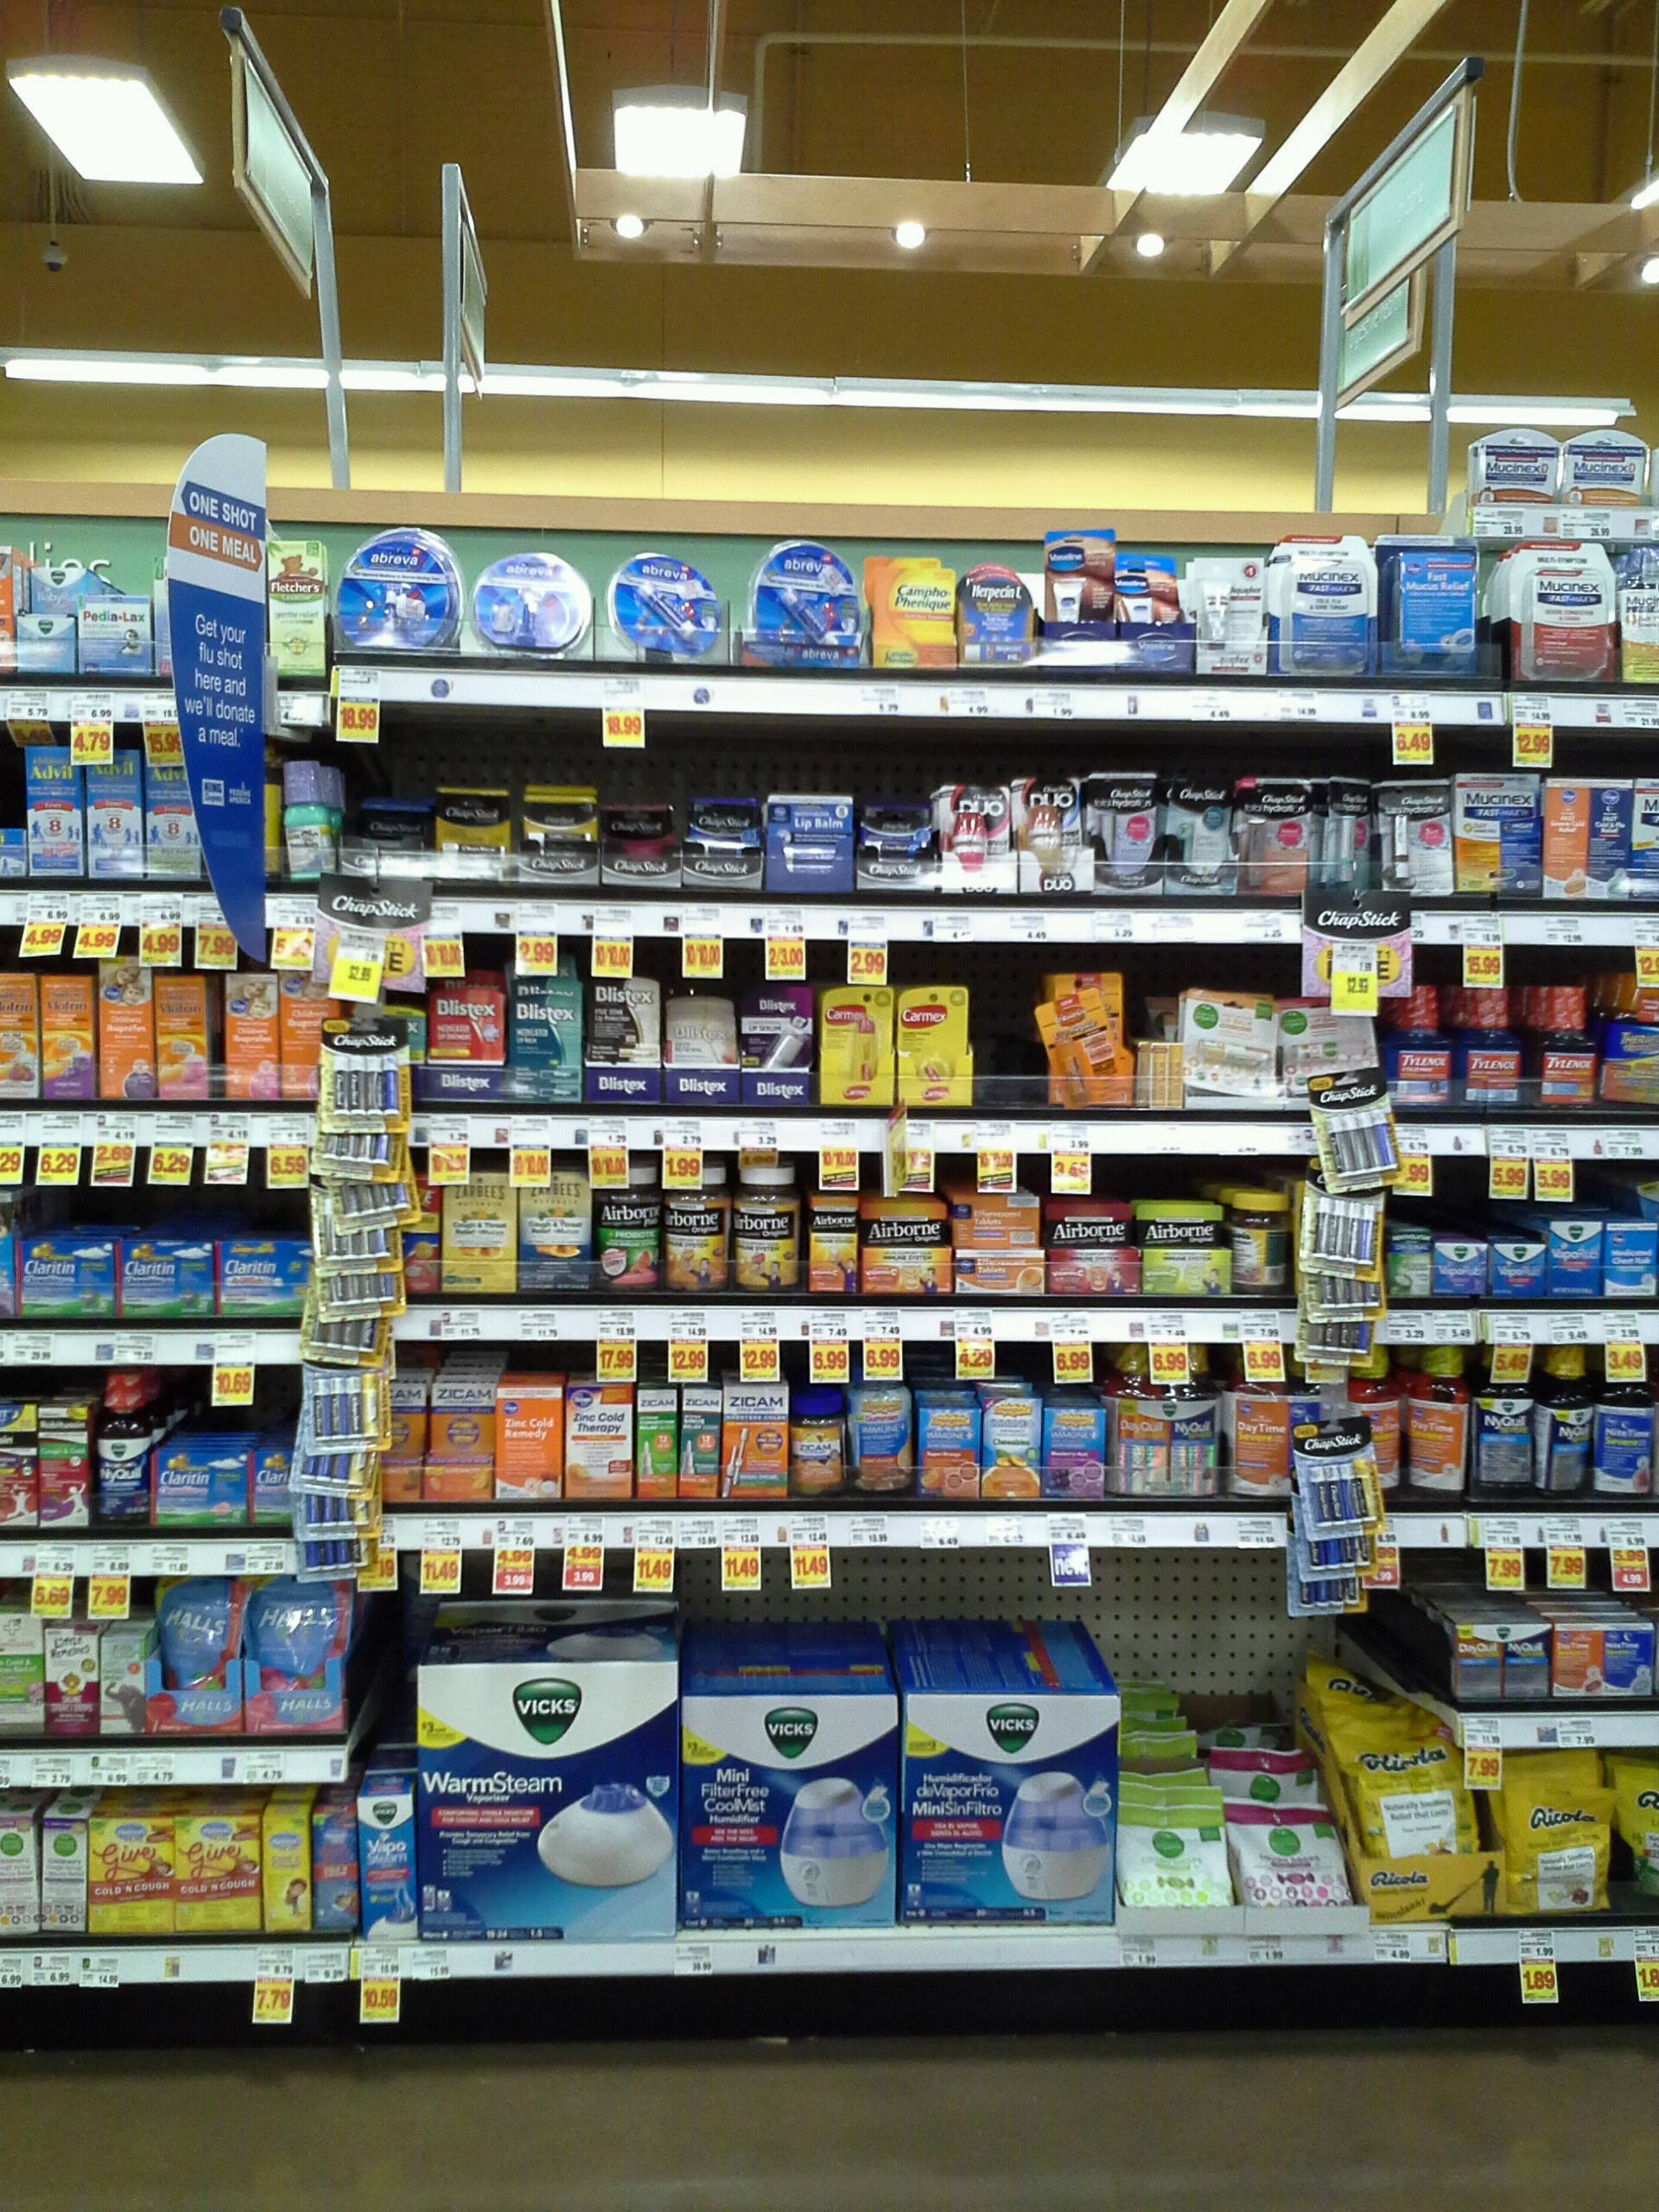Out-of-stock: (964, 942, 1049, 1111)
